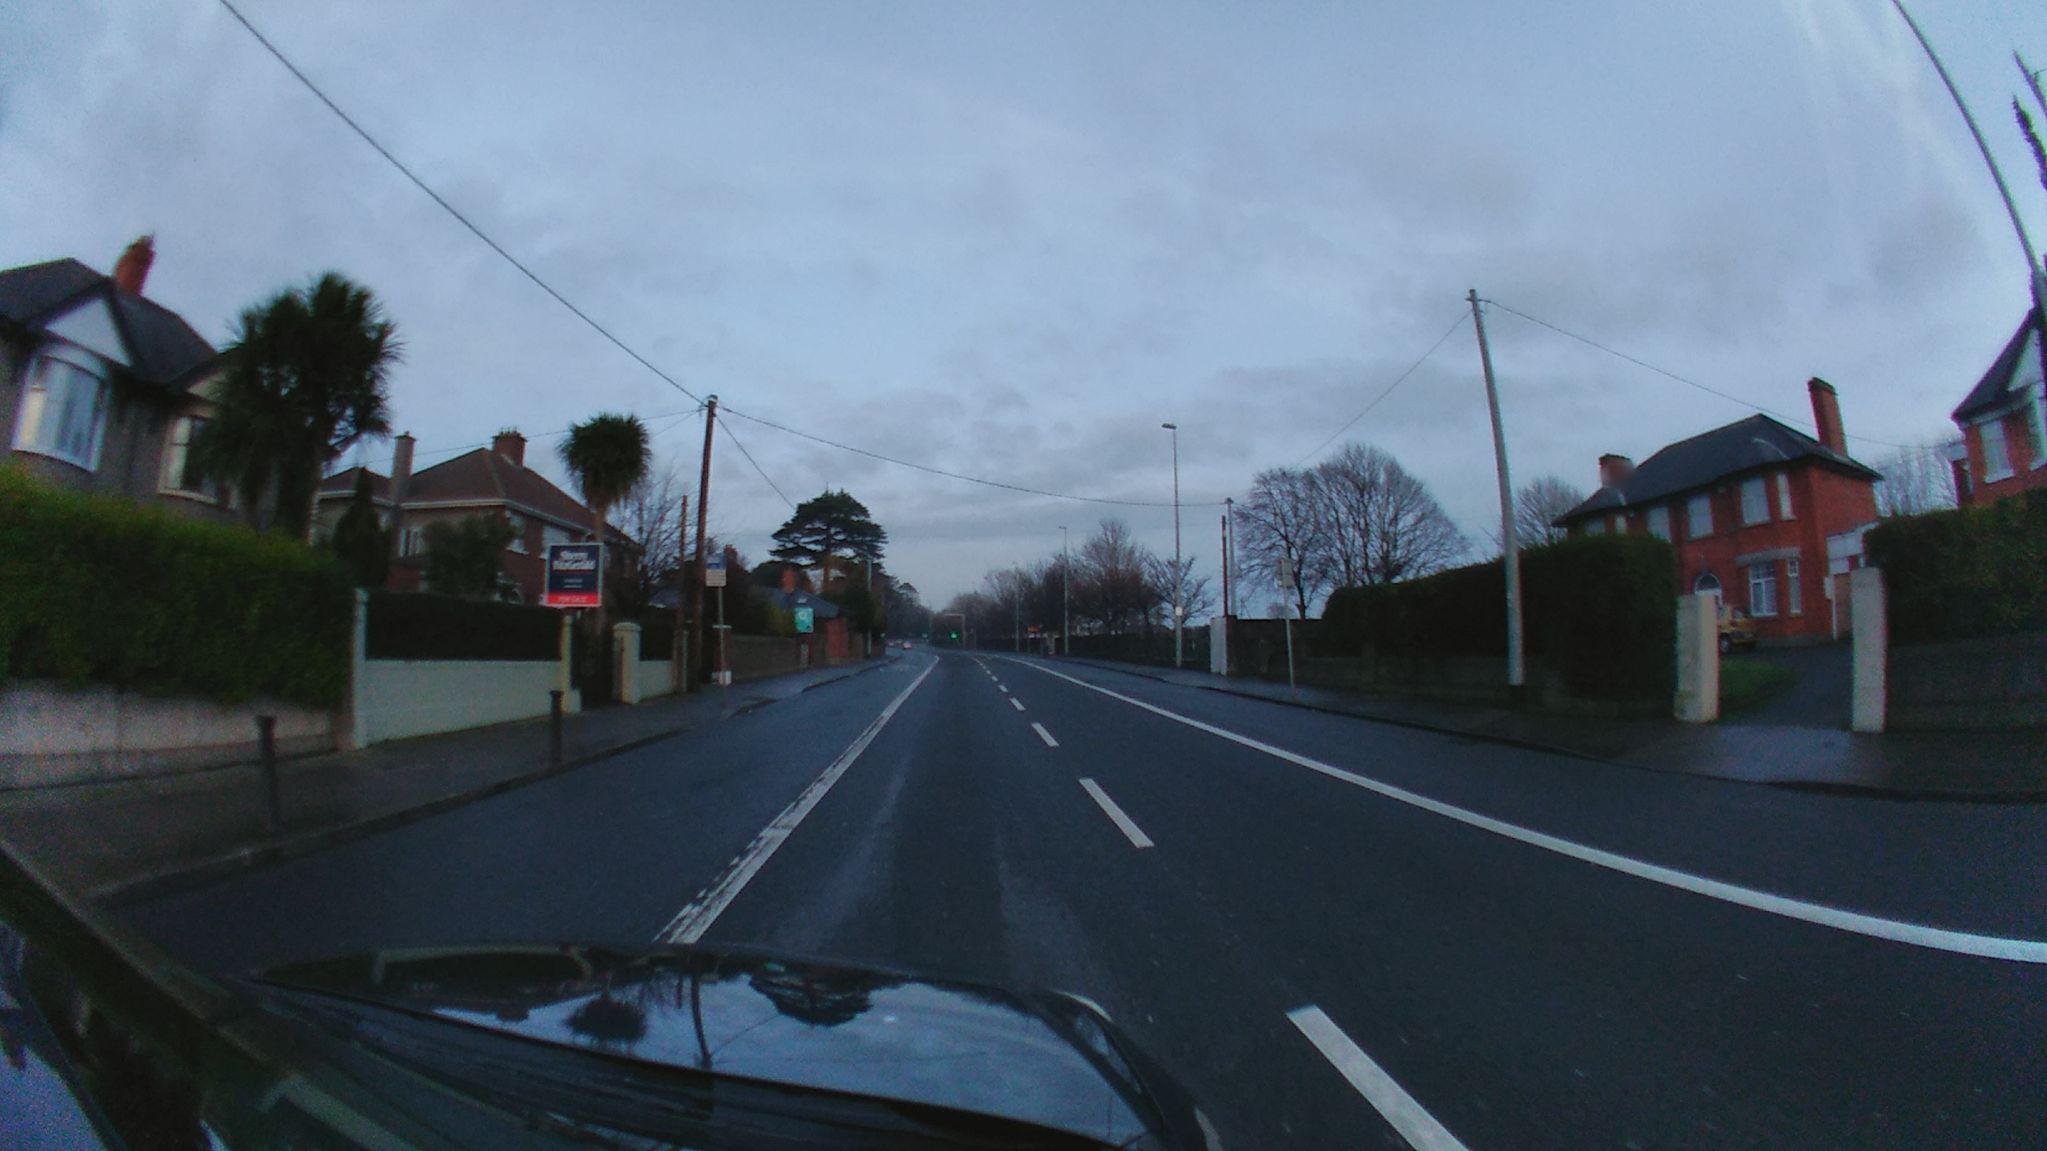property sign: (531, 530, 609, 611)
